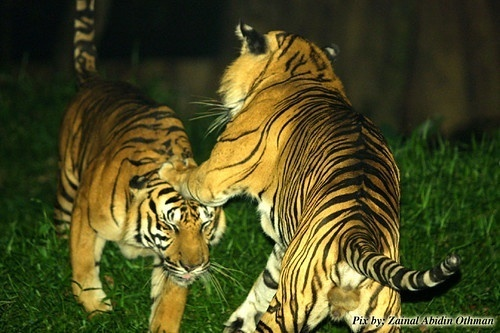tigre: (174, 18, 436, 332), (64, 16, 224, 333)
